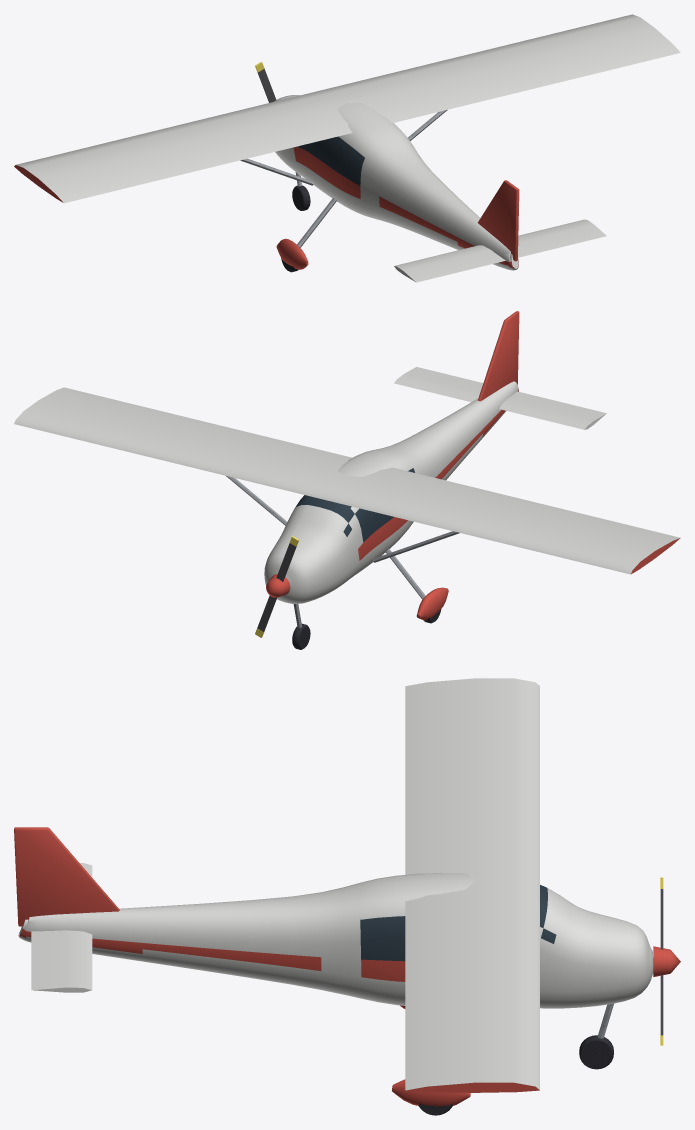
File: plane_light.gltf
3 views of the same model, one above another, from view 1: azimuth 30°, elevation 25°; view 2: azimuth 150°, elevation 25°; view 3: azimuth 270°, elevation 25° (orthographic). The views are drawn at different scales.
Parts seen in each view (by area): view 1: plane_light; view 2: plane_light; view 3: plane_light.
Boxes of the visible parts, left/top/right/bottom form: plane_light: left=14, top=14, right=680, bottom=282; plane_light: left=14, top=311, right=680, bottom=649; plane_light: left=14, top=678, right=680, bottom=1115.
Bounding box in the file's own units: 11 × 3.05 × 7.67.
Materials: 7 (2 with a texture image).
